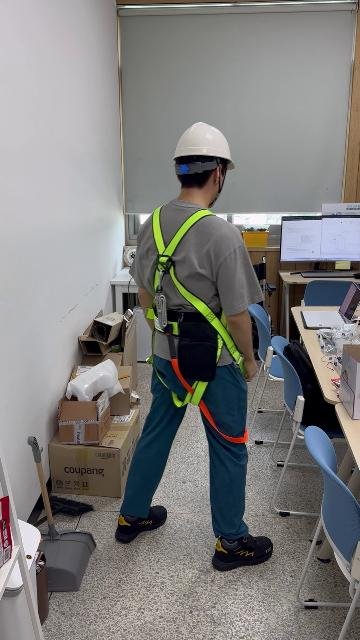helmet_worn: (171, 121, 237, 170)
shoe_worn: (212, 533, 273, 571), (115, 505, 167, 542)
vest_worn: (146, 213, 253, 419)
